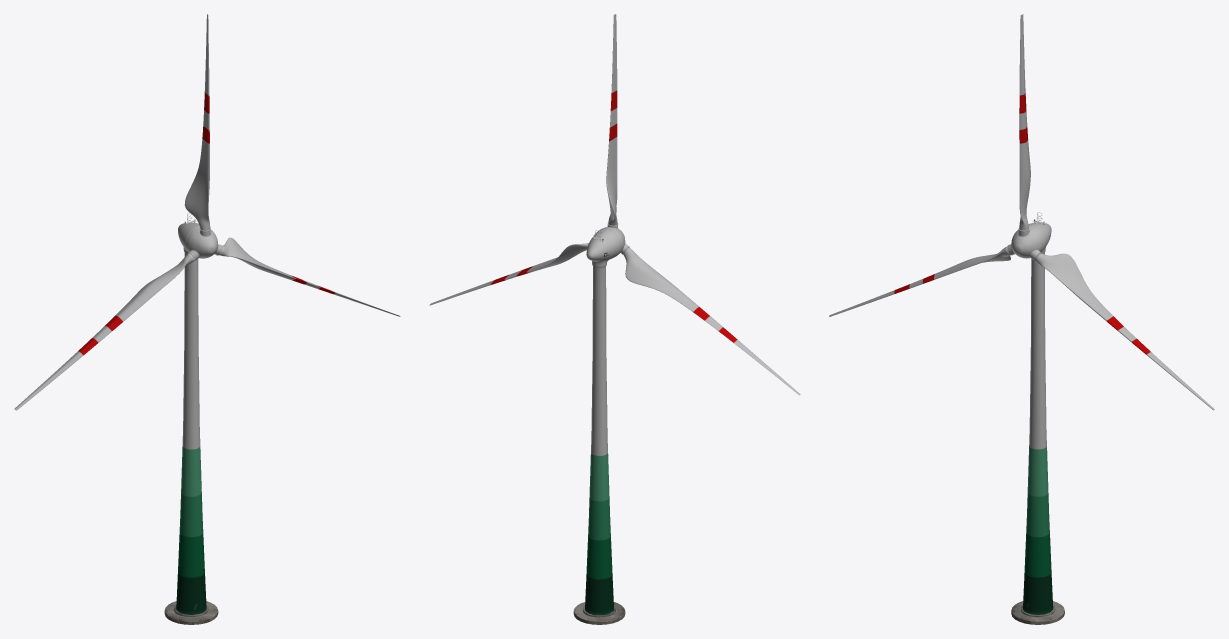
Rendered from WindTurbine.fbx.
3 views of the same model, side by side, from view 1: azimuth 30°, elevation 25°; view 2: azimuth 150°, elevation 25°; view 3: azimuth 330°, elevation 25° (orthographic). The views are drawn at different scales.
Visible parts, largest first — view 1: pole_low, blade_low, frontRot_low; view 2: pole_low, blade_low, body_low; view 3: pole_low, blade_low, frontRot_low.
Part boxes in pixels (box(x1,y1,x2,y2)): pole_low: box(164, 252, 218, 624); blade_low: box(14, 14, 400, 410); frontRot_low: box(186, 227, 222, 260); pole_low: box(573, 266, 625, 624); blade_low: box(429, 14, 800, 395); body_low: box(586, 229, 620, 267); pole_low: box(1011, 252, 1064, 624); blade_low: box(829, 14, 1214, 410); frontRot_low: box(1007, 226, 1043, 260).
Size of the model in its own units: 4902 by 754 by 7440.
1 material, 1 textured.
